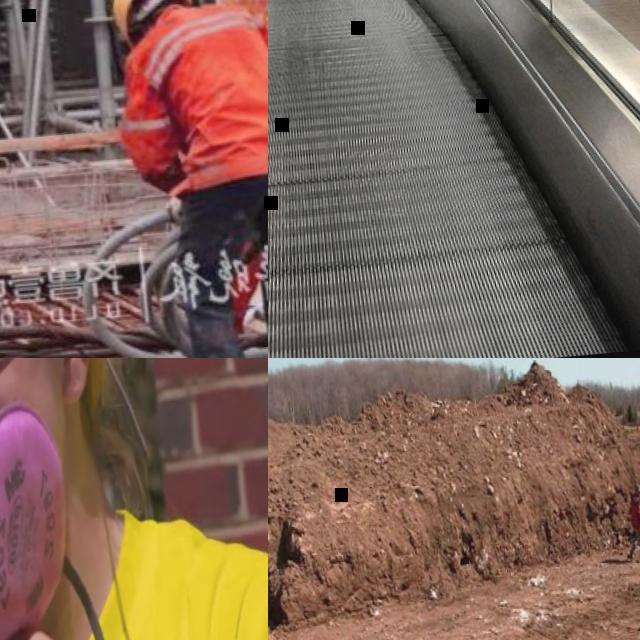objects: (85, 2, 198, 78)
